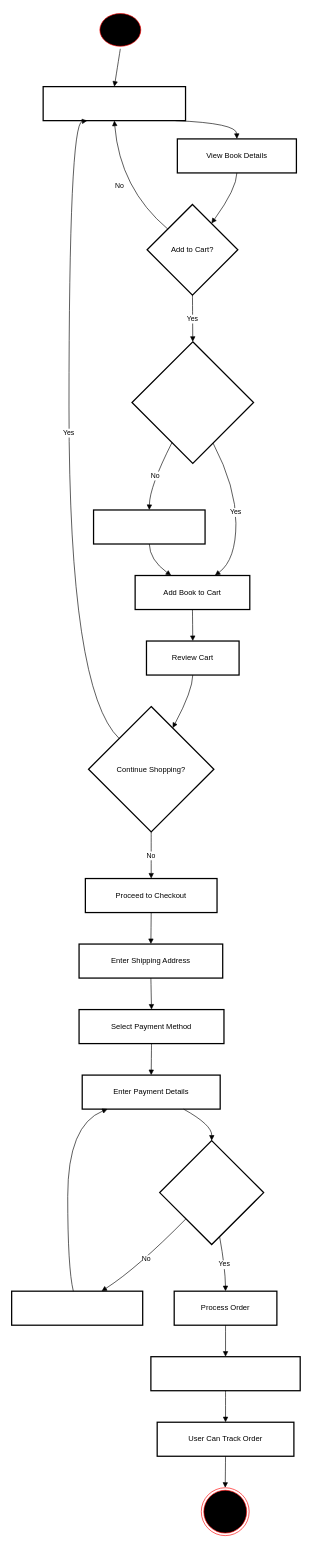
Image size: 311x1547. Some labels were removed from this diagram. The shapes that lost their labels are listed below. From the top down, each one's centre as x and y in pixels, then its label:
At point 114,103: "Browse / Search Books".
At point 192,402: "Already Logged In?".
At point 149,526: "Log In / Register".
At point 211,1192: "Payment Valid?".
At point 77,1308: "Show Payment Error".
At point 225,1373: "Send Confirmation Email".
